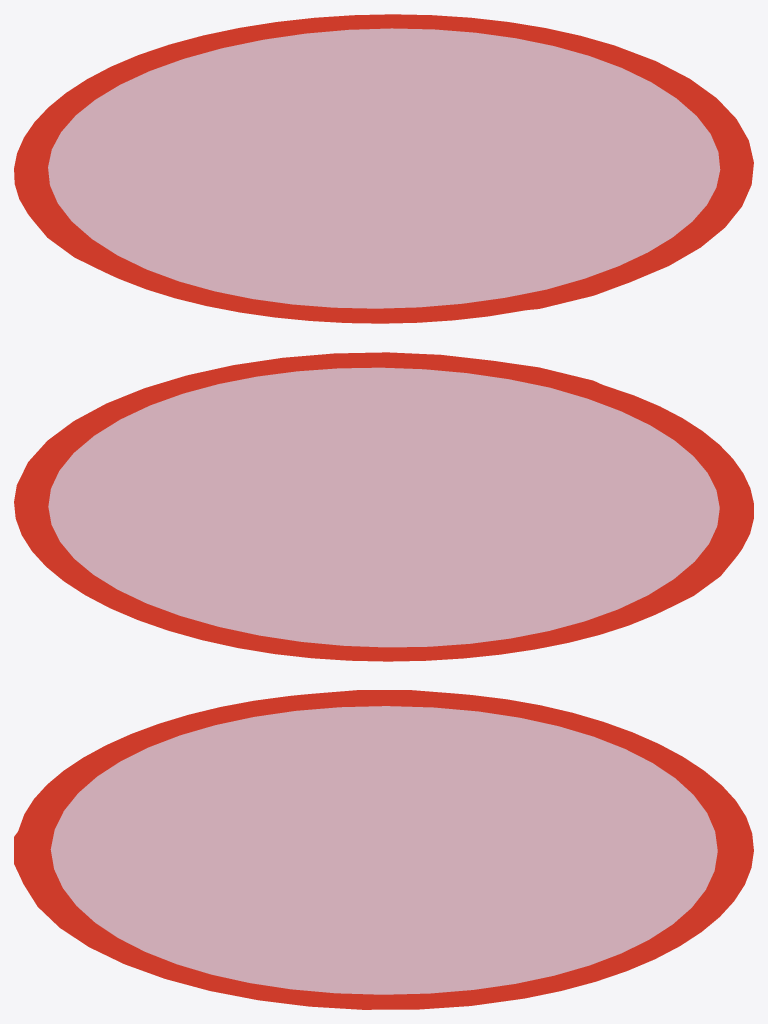
The model's file is circlev1.dae.
3 renders of one model, top to bottom at view 1: azimuth 30°, elevation 25°; view 2: azimuth 150°, elevation 25°; view 3: azimuth 270°, elevation 25°, orthographic.
Parts seen in each view (by area): view 1: Curve.019, Curve.015; view 2: Curve.019, Curve.015; view 3: Curve.019, Curve.015.
Part boxes in pixels (x1=…): Curve.019: x1=48, y1=28, x2=720, y2=308; Curve.015: x1=14, y1=14, x2=753, y2=323; Curve.019: x1=48, y1=367, x2=719, y2=647; Curve.015: x1=14, y1=352, x2=753, y2=661; Curve.019: x1=50, y1=706, x2=717, y2=994; Curve.015: x1=14, y1=690, x2=753, y2=1009.
Size of the model in its own units: 1.11 by 1.09 by 0.
